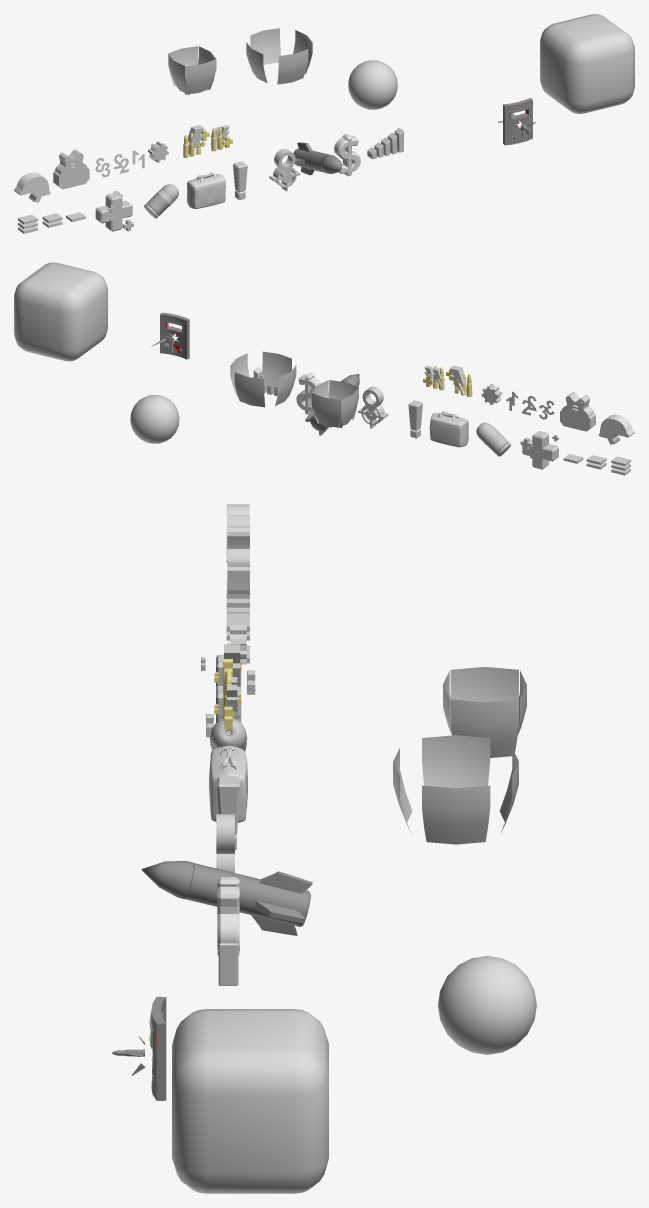
The model's file is Pick Up.FBX.
The picture shows the model from 3 angles, top to bottom: view 1: azimuth 30°, elevation 25°; view 2: azimuth 150°, elevation 25°; view 3: azimuth 270°, elevation 25°; orthographic projection. The views are drawn at different scales.
Parts seen in each view (by area): view 1: ChamferBox001, Effect armor, GeoSphere, Effect armor2, Attack_armor_Boder, fistaidkitout, Armor_out, rocketout, Finderout, Cash out, helmet_out, Headuot (+6 smaller); view 2: ChamferBox001, Effect armor, GeoSphere, Effect armor2, Attack_armor_Boder, fistaidkitout, Armor_out, Finderout, helmet_out, Grenadeout, Headuot, Cash out (+4 smaller); view 3: ChamferBox001, Effect armor, GeoSphere, rocketout, Effect armor2, Attack_armor_Boder, fistaidkitout, Armor_out, Cash out, Finderout, Headuot, Sportter_out.
Part boxes in pixels (x1,y1,x2,y2): ChamferBox001: [540, 14, 634, 113]; Effect armor: [246, 28, 312, 84]; GeoSphere: [348, 60, 397, 109]; Effect armor2: [168, 46, 216, 94]; Attack_armor_Boder: [498, 98, 535, 145]; fistaidkitout: [186, 172, 225, 208]; Armor_out: [53, 149, 89, 189]; rocketout: [293, 142, 342, 175]; Finderout: [269, 148, 300, 191]; Cash out: [334, 133, 360, 176]; helmet_out: [14, 172, 50, 202]; Headuot: [95, 191, 133, 231]; ChamferBox001: [14, 262, 107, 361]; Effect armor: [230, 351, 296, 407]; GeoSphere: [130, 395, 179, 443]; Effect armor2: [311, 380, 358, 428]; Attack_armor_Boder: [151, 312, 189, 359]; fistaidkitout: [429, 411, 468, 447]; Armor_out: [560, 392, 595, 431]; Finderout: [358, 386, 388, 428]; helmet_out: [599, 414, 634, 444]; Grenadeout: [476, 422, 510, 456]; Headuot: [520, 431, 558, 469]; Cash out: [296, 372, 321, 414]; ChamferBox001: [172, 1009, 328, 1193]; Effect armor: [393, 735, 518, 844]; GeoSphere: [438, 956, 536, 1054]; rocketout: [141, 861, 312, 935]; Effect armor2: [443, 667, 526, 757]; Attack_armor_Boder: [112, 996, 166, 1100]; fistaidkitout: [209, 745, 247, 822]; Armor_out: [227, 514, 249, 593]; Cash out: [217, 877, 239, 955]; Finderout: [216, 814, 234, 872]; Headuot: [201, 654, 255, 737]; Sportter_out: [217, 776, 239, 849].
Size of the model in its own units: 1142 by 173 by 349.
